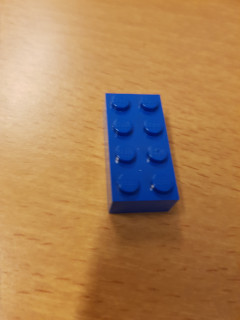2x4 blue: (103, 91, 180, 216)
